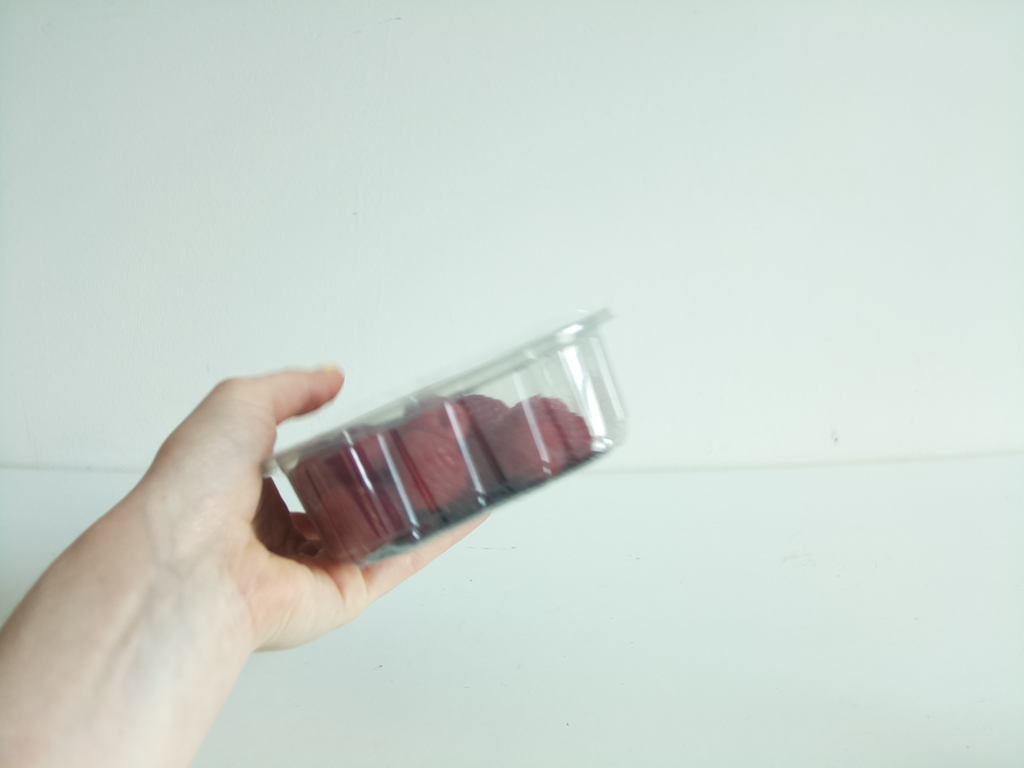soft-fruit: (252, 308, 636, 580)
